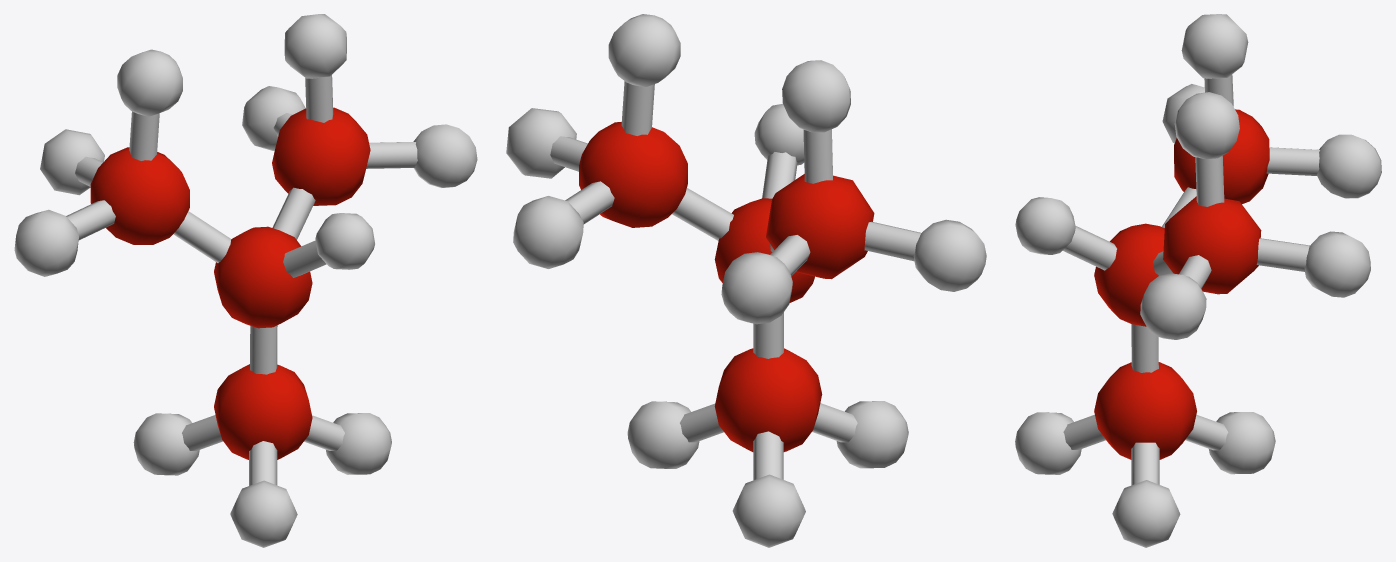
3 renders of one model, left to right at view 1: azimuth 30°, elevation 25°; view 2: azimuth 150°, elevation 25°; view 3: azimuth 270°, elevation 25°, orthographic. The views are drawn at different scales.
Parts seen in each view (by area): view 1: sphere, 3, 1, 2; view 2: sphere, 3, 1, 2; view 3: sphere, 3, 1, 2.
Part boxes in pixels (box(x1,y1,x2,y2)): sphere: box(14, 14, 477, 547); 3: box(214, 364, 312, 459); 1: box(133, 413, 199, 475); 2: box(182, 415, 222, 450); sphere: box(506, 14, 986, 468); 3: box(714, 348, 822, 451); 1: box(732, 474, 805, 547); 2: box(753, 431, 783, 480); sphere: box(1015, 14, 1381, 547); 3: box(1094, 362, 1196, 459); 1: box(1209, 412, 1275, 474); 2: box(1185, 414, 1228, 450).
Size of the model in its own units: 0.2513 by 0.2374 by 0.1782.
